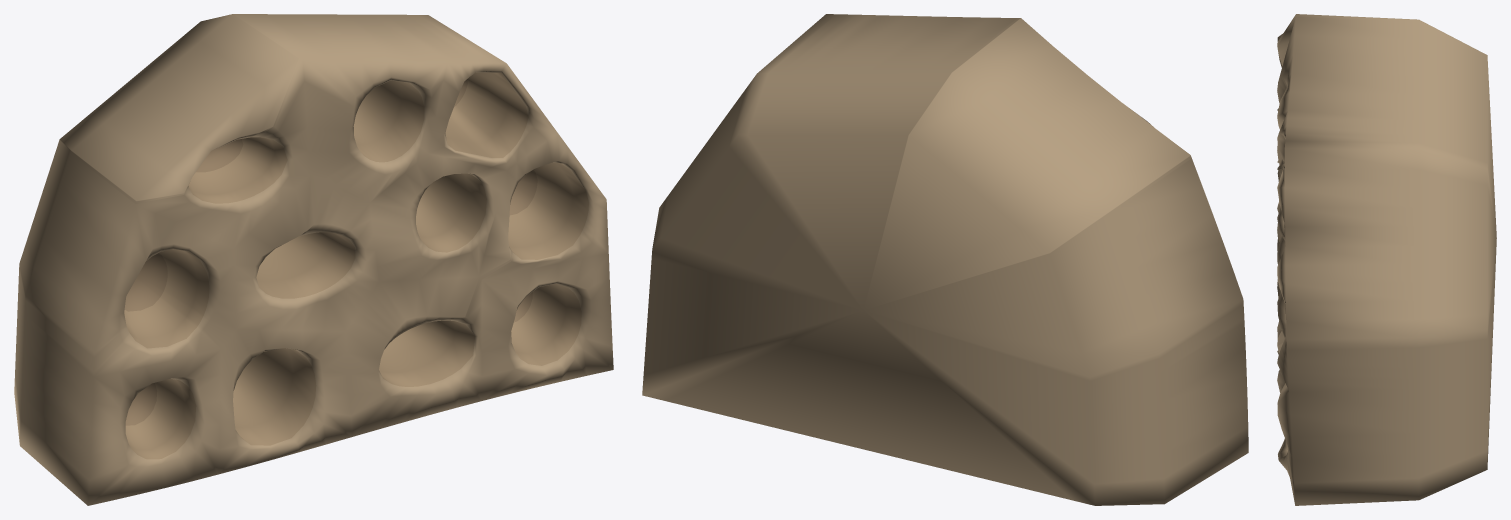
The model's file is tafoni-outcrop.glb.
The picture shows the model from 3 angles, left to right: view 1: azimuth 30°, elevation 25°; view 2: azimuth 150°, elevation 25°; view 3: azimuth 270°, elevation 25°; orthographic projection. The views are drawn at different scales.
Visible parts, largest first — view 1: continuous-weathered-rock-ribs-and-rounded-recesses; view 2: continuous-weathered-rock-ribs-and-rounded-recesses; view 3: continuous-weathered-rock-ribs-and-rounded-recesses.
Boxes of the visible parts, x1,y1,x2,y2 form: continuous-weathered-rock-ribs-and-rounded-recesses: (14,14,613,505); continuous-weathered-rock-ribs-and-rounded-recesses: (642,14,1248,505); continuous-weathered-rock-ribs-and-rounded-recesses: (1277,14,1496,505).
Size of the model in its own units: 0.9 by 0.625 by 0.353.
